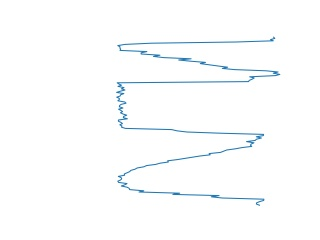distributaryChannelFill: (111, 74, 265, 142)
mouthBar: (112, 33, 284, 77)
underwaterDistributaryChannel: (113, 138, 265, 209)
